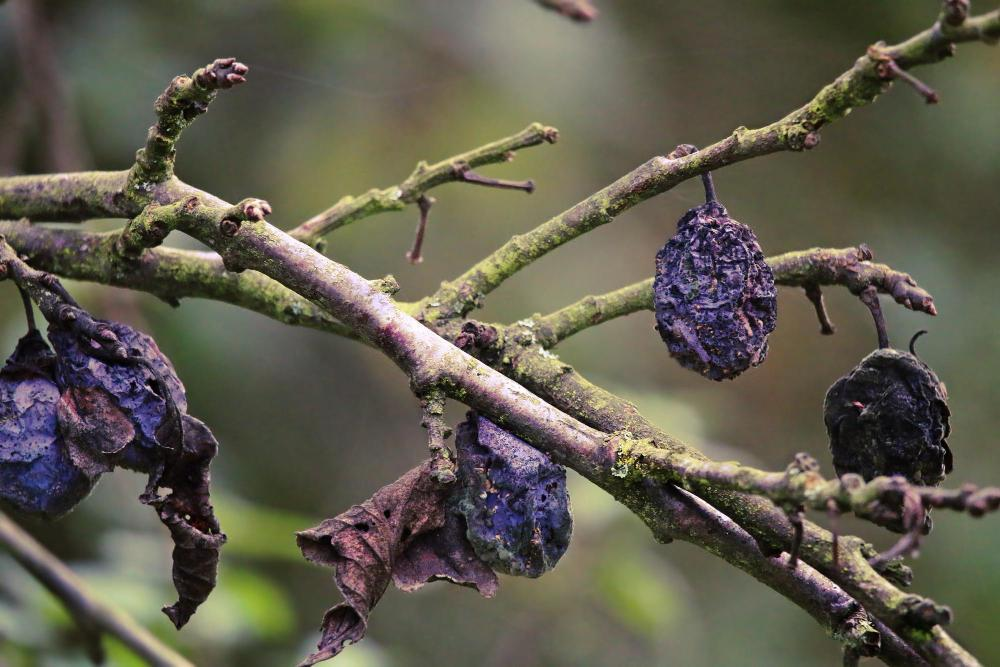mummified_fruits: (653, 174, 776, 380), (455, 412, 572, 577)
